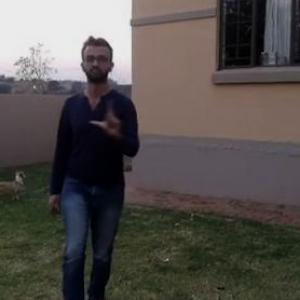land_hand: (88, 96, 126, 137)
